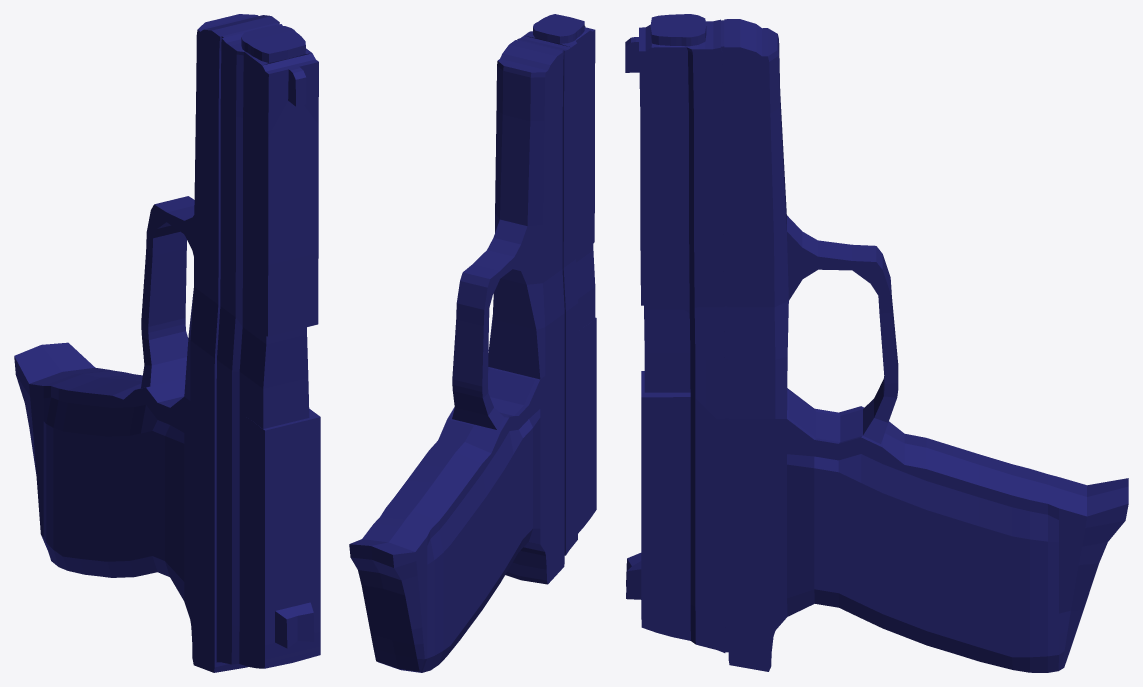
Rendered from gun.obj.
3 renders of one model, left to right at view 1: azimuth 30°, elevation 25°; view 2: azimuth 150°, elevation 25°; view 3: azimuth 270°, elevation 25°, orthographic. The views are drawn at different scales.
Parts seen in each view (by area): view 1: default; view 2: default; view 3: default.
Part boxes in pixels (x1=…): default: x1=14, y1=14, x2=320, y2=672; default: x1=349, y1=14, x2=596, y2=672; default: x1=625, y1=14, x2=1128, y2=672.
Bounding box in the file's own units: 0.9644 × 7.9 × 5.68.
